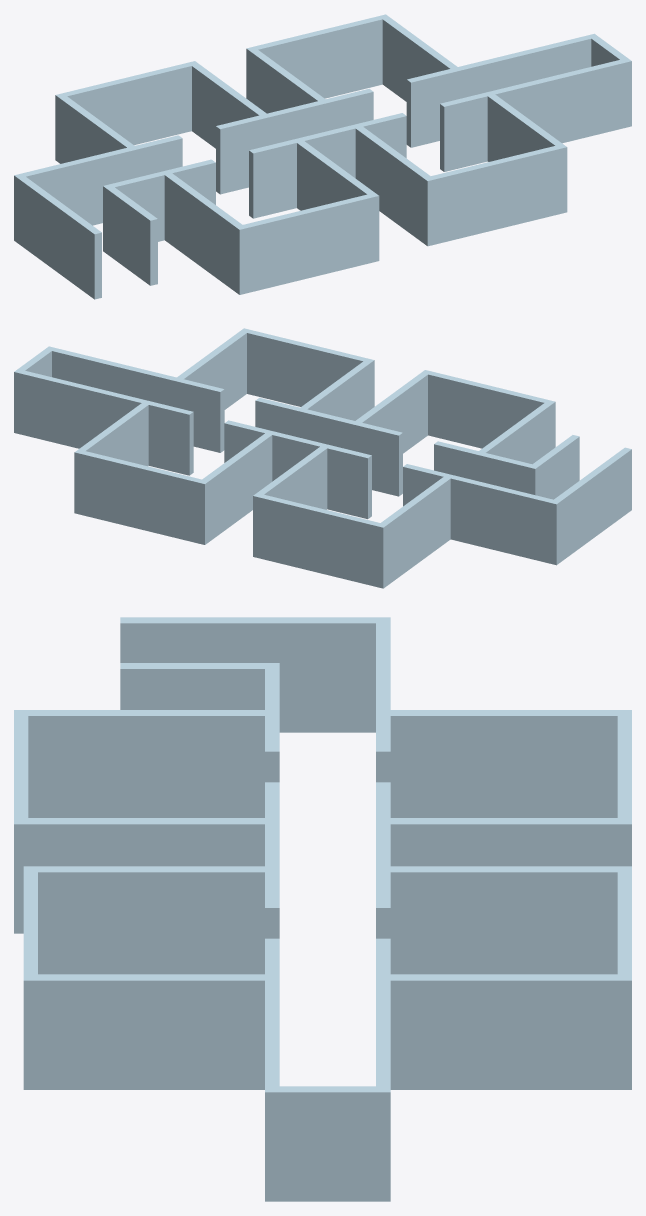
The model's file is mundo_abiertas.dae.
The picture shows the model from 3 angles, top to bottom: view 1: azimuth 30°, elevation 25°; view 2: azimuth 150°, elevation 25°; view 3: azimuth 270°, elevation 25°; orthographic projection. The views are drawn at different scales.
Parts seen in each view (by area): view 1: mesh57, mesh61, mesh3, mesh5, mesh35, mesh31, mesh23, mesh27, mesh16, mesh19, mesh60, mesh2 (+16 smaller); view 2: mesh57, mesh9, mesh13, mesh15, mesh7, mesh37, mesh49, mesh41, mesh45, mesh16, mesh14, mesh10 (+13 smaller); view 3: mesh57, mesh8, mesh4, mesh50, mesh30, mesh42, mesh22, mesh18, mesh6, mesh0, mesh12, mesh56.
Part boxes in pixels (left/top/right/bottom): mesh57: left=14, top=14, right=631, bottom=234; mesh61: left=239, top=196, right=379, bottom=294; mesh3: left=427, top=147, right=567, bottom=246; mesh5: left=495, top=61, right=631, bottom=143; mesh35: left=411, top=39, right=591, bottom=147; mesh31: left=258, top=19, right=382, bottom=98; mesh23: left=67, top=66, right=191, bottom=145; mesh27: left=220, top=92, right=373, bottom=194; mesh16: left=14, top=175, right=94, bottom=299; mesh19: left=26, top=138, right=182, bottom=225; mesh60: left=164, top=175, right=239, bottom=294; mesh2: left=355, top=129, right=427, bottom=245; mesh57: left=14, top=328, right=631, bottom=527; mesh9: left=74, top=452, right=204, bottom=544; mesh13: left=253, top=496, right=383, bottom=588; mesh15: left=450, top=478, right=556, bottom=565; mesh7: left=14, top=372, right=141, bottom=448; mesh37: left=52, top=351, right=220, bottom=452; mesh49: left=428, top=374, right=543, bottom=448; mesh41: left=247, top=333, right=362, bottom=406; mesh45: left=255, top=400, right=398, bottom=496; mesh16: left=556, top=449, right=631, bottom=564; mesh14: left=383, top=479, right=450, bottom=588; mesh10: left=205, top=435, right=272, bottom=544; mesh57: left=14, top=617, right=631, bottom=1092; mesh8: left=390, top=980, right=631, bottom=1089; mesh4: left=23, top=980, right=264, bottom=1089; mesh50: left=28, top=716, right=264, bottom=817; mesh30: left=390, top=872, right=617, bottom=974; mesh42: left=38, top=872, right=264, bottom=974; mesh22: left=390, top=716, right=617, bottom=817; mesh18: left=120, top=623, right=375, bottom=732; mesh6: left=265, top=1092, right=390, bottom=1201; mesh0: left=14, top=824, right=264, bottom=933; mesh12: left=390, top=824, right=631, bottom=866; mesh56: left=120, top=669, right=264, bottom=709.
Size of the model in its own units: 0.2329 by 0.128 by 0.025.
